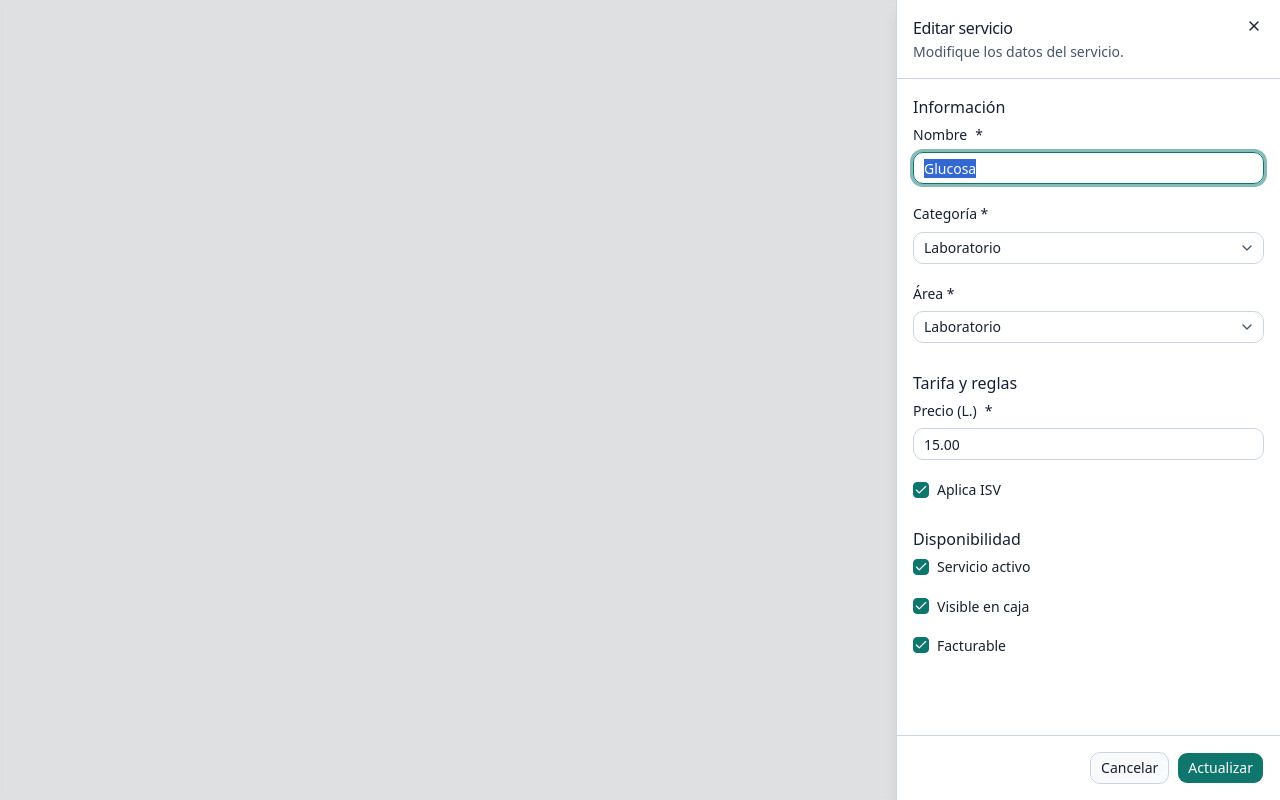
Test case: ServiceDrawer › blocks short availability change reasons before saving
The width and height of the screenshot is (1280, 800).
Click the checkbox named "servicio activo" next to "Servicio activo".
click(921, 567)  # box x1=913 y1=559 x2=929 y2=575
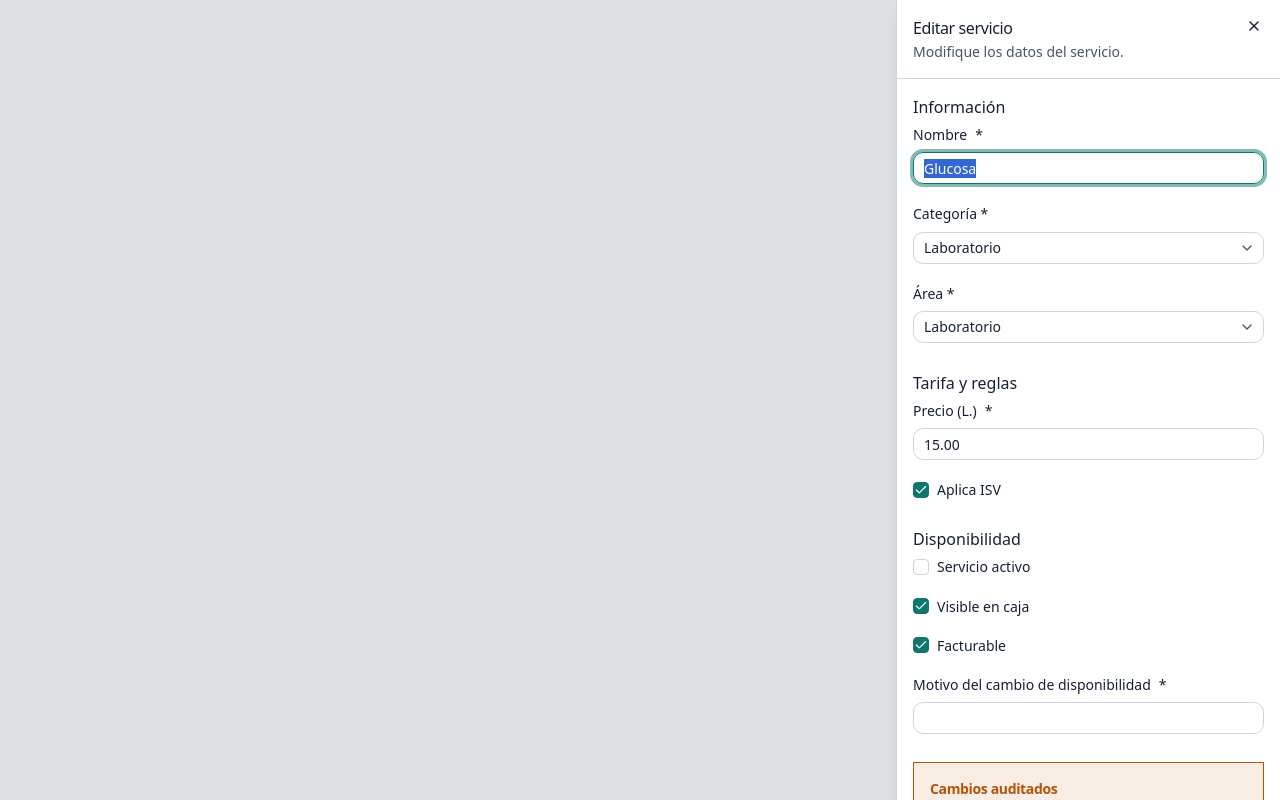
Type "x" into the field labelled "Motivo del cambio de disponibilidad *".
click(1088, 718); type("x")  # box x1=913 y1=702 x2=1264 y2=734
(page scrolled)
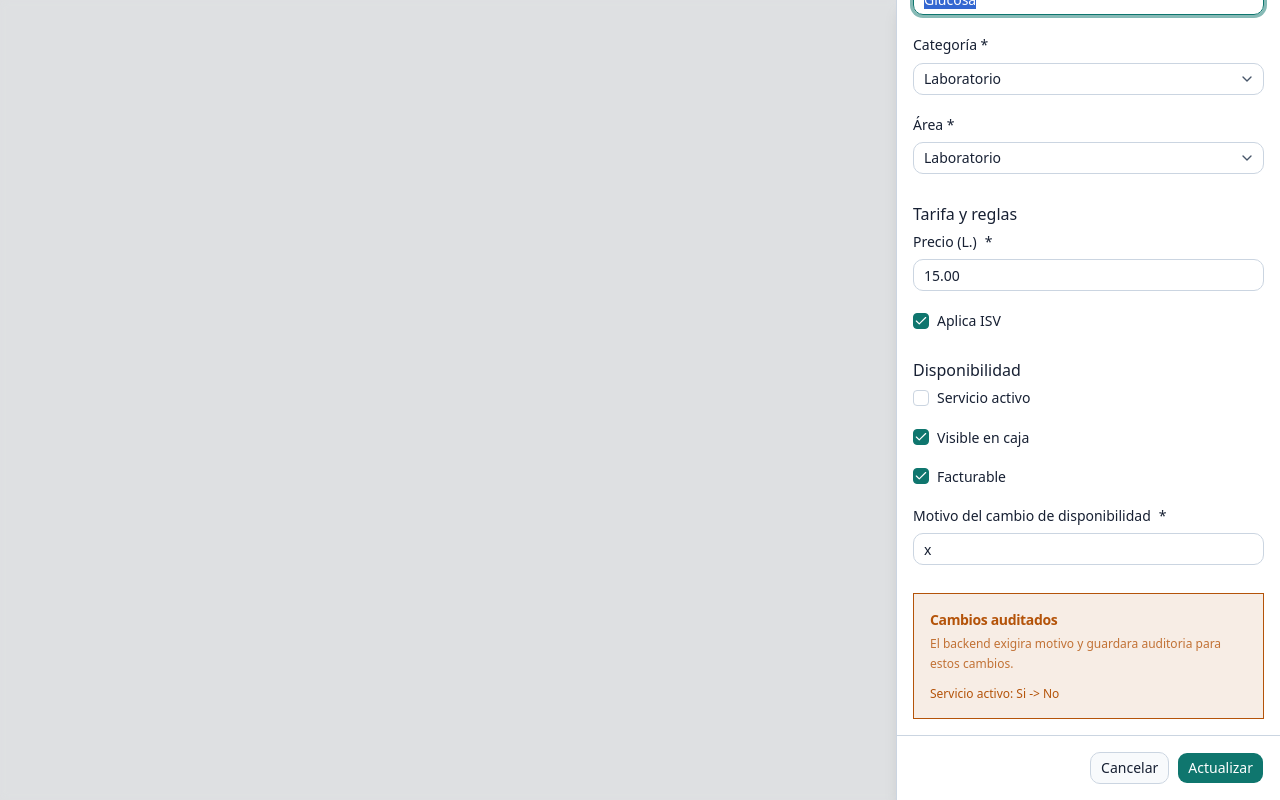
Click the button "Actualizar".
click(1221, 768)  # box x1=1177 y1=752 x2=1264 y2=784
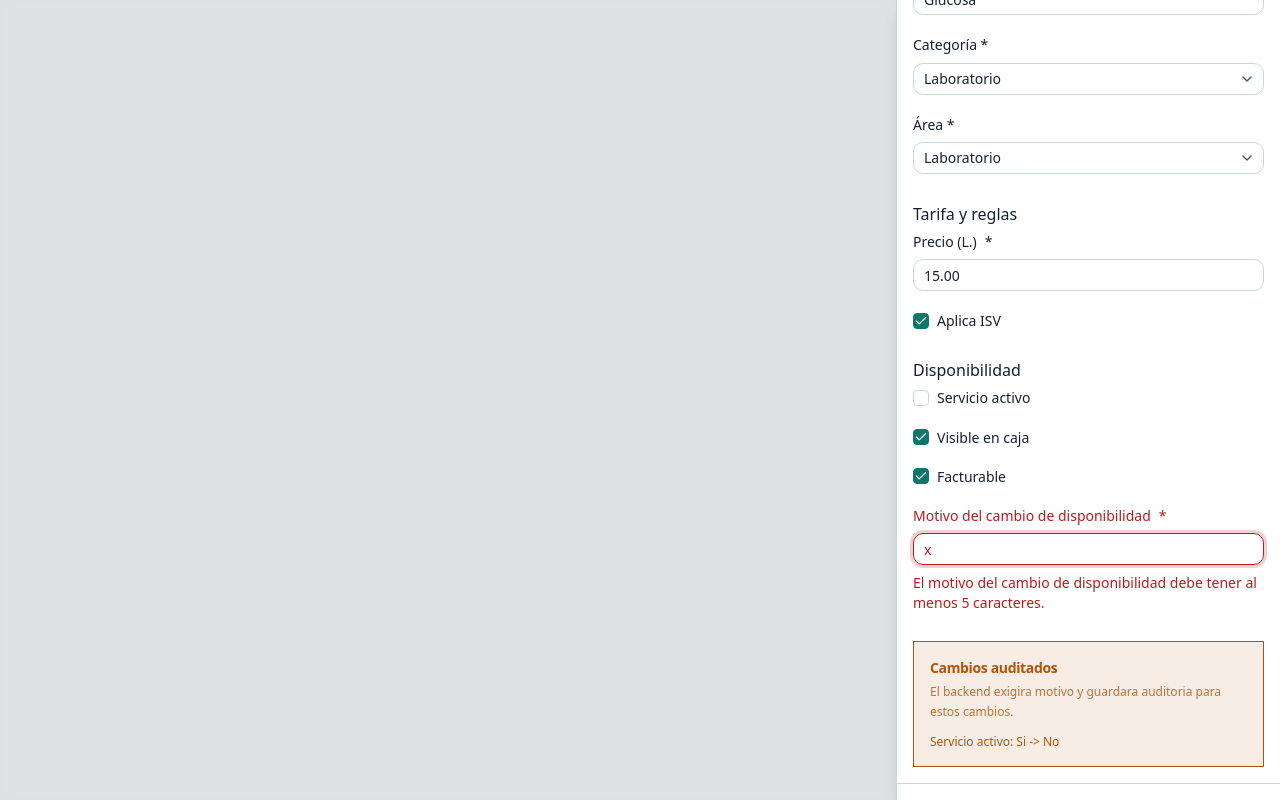
Check: the text "El motivo del cambio de disponibilidad debe tener al menos 5 caracteres." is shown, box x1=913 y1=573 x2=1264 y2=613
